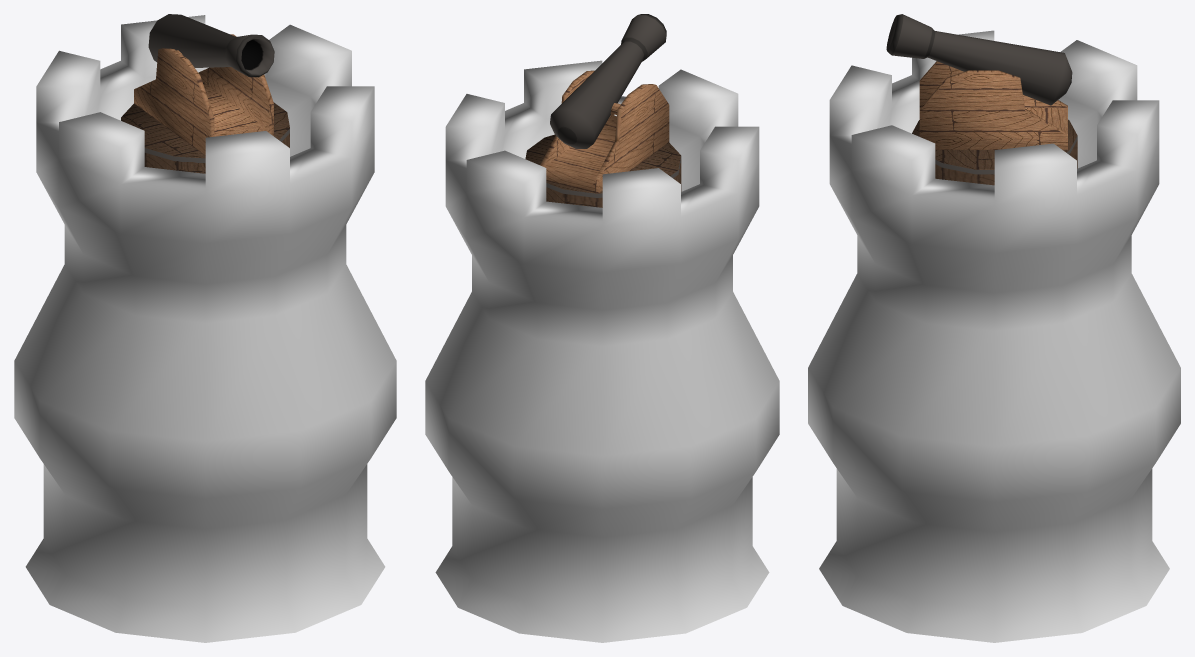
File: Cannontower.fbx
The picture shows the model from 3 angles, left to right: view 1: azimuth 30°, elevation 25°; view 2: azimuth 150°, elevation 25°; view 3: azimuth 270°, elevation 25°; orthographic projection. The views are drawn at different scales.
Visible parts, largest first — view 1: Tower, Cannon; view 2: Tower, Cannon; view 3: Tower, Cannon.
Part boxes in pixels (left/top/right/bottom): Tower: left=14, top=15, right=396, bottom=642; Cannon: left=121, top=14, right=289, bottom=173; Tower: left=425, top=60, right=779, bottom=642; Cannon: left=525, top=14, right=681, bottom=207; Tower: left=808, top=30, right=1180, bottom=642; Cannon: left=886, top=14, right=1077, bottom=185.
Bounding box in the file's own units: 4.73 × 7.73 × 4.73.
Materials: 2 (1 with a texture image).
